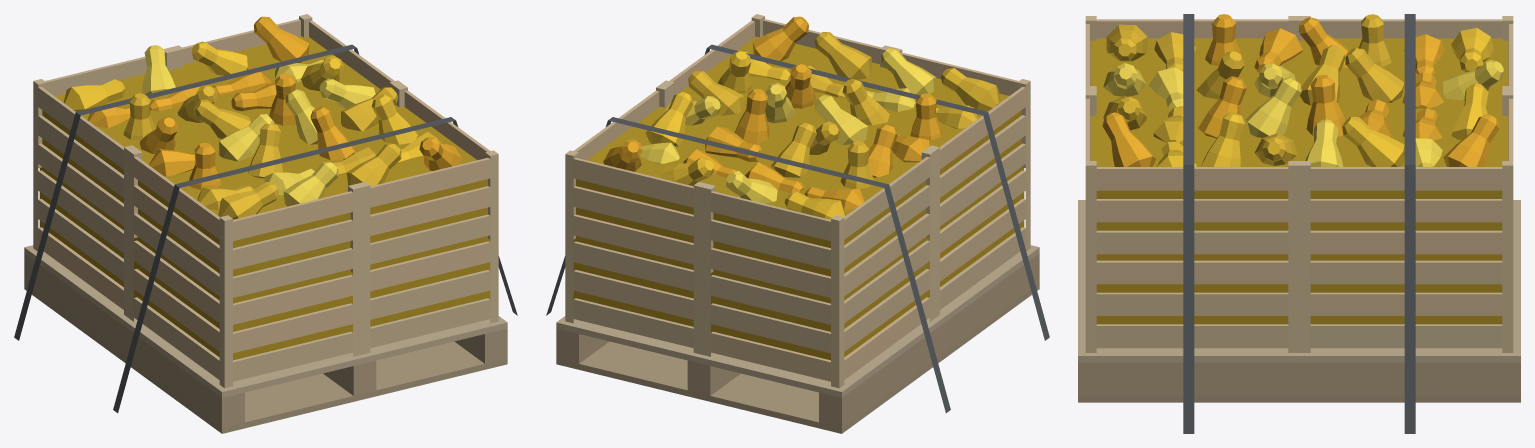
The model's file is produce-pallet-squash.glb.
3 renders of one model, left to right at view 1: azimuth 30°, elevation 25°; view 2: azimuth 150°, elevation 25°; view 3: azimuth 270°, elevation 25°, orthographic. The views are drawn at different scales.
Parts seen in each view (by area): view 1: ProducePalletSquash_CrateWood, ProducePalletSquash_Produce, ProducePalletSquash_PalletWood, ProducePalletSquash_Strap; view 2: ProducePalletSquash_CrateWood, ProducePalletSquash_Produce, ProducePalletSquash_PalletWood, ProducePalletSquash_Strap; view 3: ProducePalletSquash_CrateWood, ProducePalletSquash_Produce, ProducePalletSquash_PalletWood, ProducePalletSquash_Strap.
Part boxes in pixels (<box>): ProducePalletSquash_CrateWood: <box>33,14,498,388</box>; ProducePalletSquash_Produce: <box>39,16,490,360</box>; ProducePalletSquash_PalletWood: <box>24,245,507,433</box>; ProducePalletSquash_Strap: <box>14,44,517,413</box>; ProducePalletSquash_CrateWood: <box>565,14,1030,388</box>; ProducePalletSquash_Produce: <box>573,16,1024,360</box>; ProducePalletSquash_PalletWood: <box>556,245,1039,433</box>; ProducePalletSquash_Strap: <box>546,44,1049,413</box>; ProducePalletSquash_CrateWood: <box>1085,16,1513,352</box>; ProducePalletSquash_Produce: <box>1090,14,1508,324</box>; ProducePalletSquash_PalletWood: <box>1078,200,1520,402</box>; ProducePalletSquash_Strap: <box>1183,14,1415,433</box>.
Size of the model in its own units: 1.4 by 0.7912 by 1.2.
